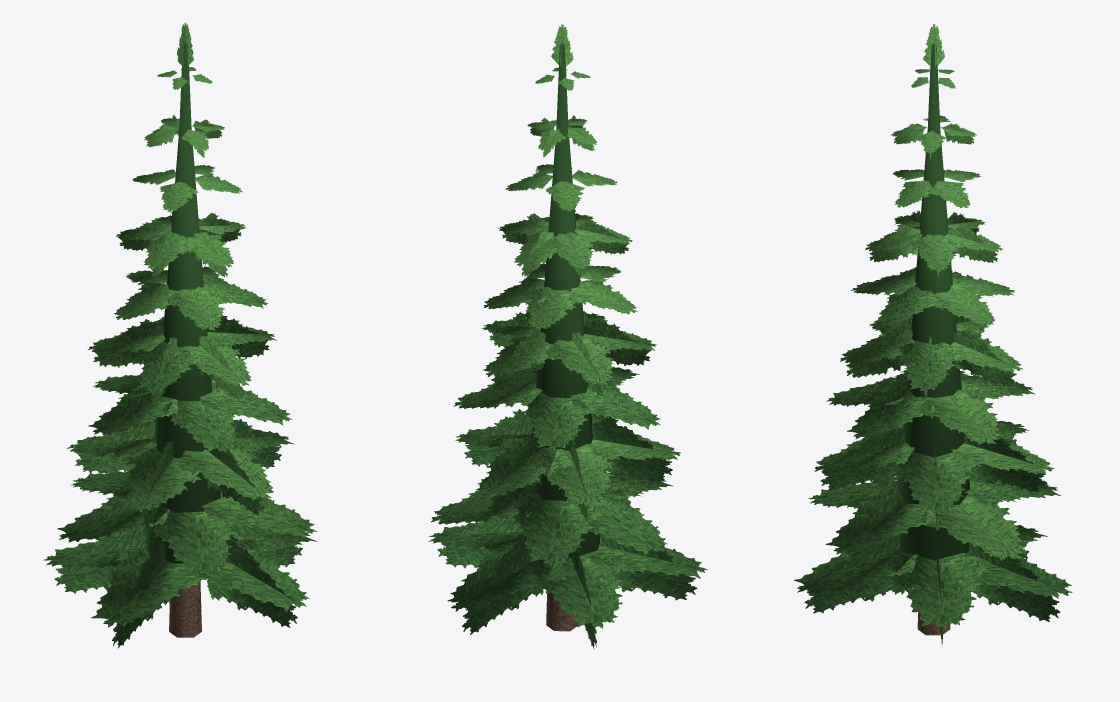
Rendered from spruce_tree_lod.glb.
3 views of the same model, side by side, from view 1: azimuth 30°, elevation 25°; view 2: azimuth 150°, elevation 25°; view 3: azimuth 270°, elevation 25° (orthographic).
Parts seen in each view (by area): view 1: spruce_tree_lod; view 2: spruce_tree_lod; view 3: spruce_tree_lod.
Part boxes in pixels (x1,y1,x2,y2): spruce_tree_lod: (43,22,317,648); spruce_tree_lod: (428,24,707,649); spruce_tree_lod: (794,24,1072,644).
Bounding box in the file's own units: 6.27 × 12.63 × 6.35.
3 materials, 2 textured.
